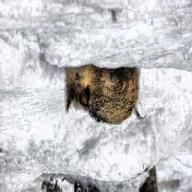boar: (63, 64, 144, 126)
